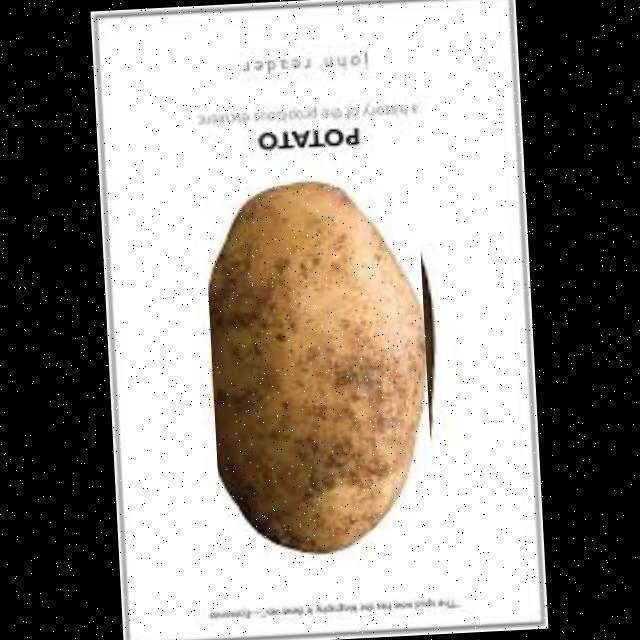Diseased-fungal potato: (202, 160, 436, 566)
